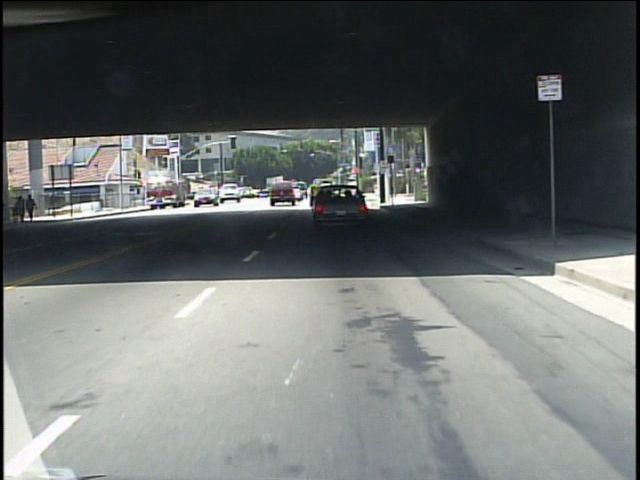person: (15, 197, 28, 225), (28, 195, 40, 225)
